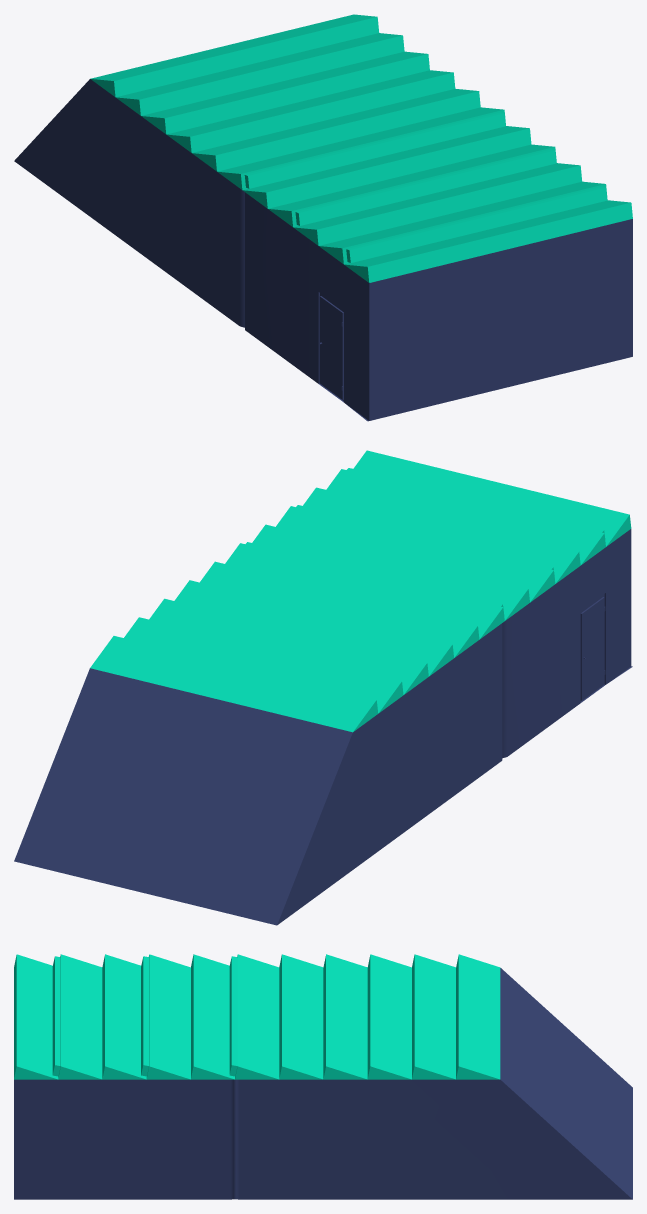
Rendered from Shooting range 2.0.fbx.
3 views of the same model, one above another, from view 1: azimuth 30°, elevation 25°; view 2: azimuth 150°, elevation 25°; view 3: azimuth 270°, elevation 25° (orthographic). The views are drawn at different scales.
Visible parts, largest first — view 1: roof, left_wall, back_wall; view 2: roof, front_wall, left_wall; view 3: right_wall, roof, front_wall.
Part boxes in pixels (left/top/right/bottom): roof: left=90, top=14, right=632, bottom=282; left_wall: left=14, top=79, right=369, bottom=420; back_wall: left=369, top=219, right=632, bottom=420; roof: left=90, top=450, right=631, bottom=732; front_wall: left=14, top=668, right=352, bottom=925; left_wall: left=277, top=529, right=631, bottom=924; right_wall: left=14, top=1079, right=632, bottom=1199; roof: left=14, top=954, right=500, bottom=1079; front_wall: left=500, top=968, right=632, bottom=1199.
Size of the model in its own units: 6037 by 3350 by 14000.
